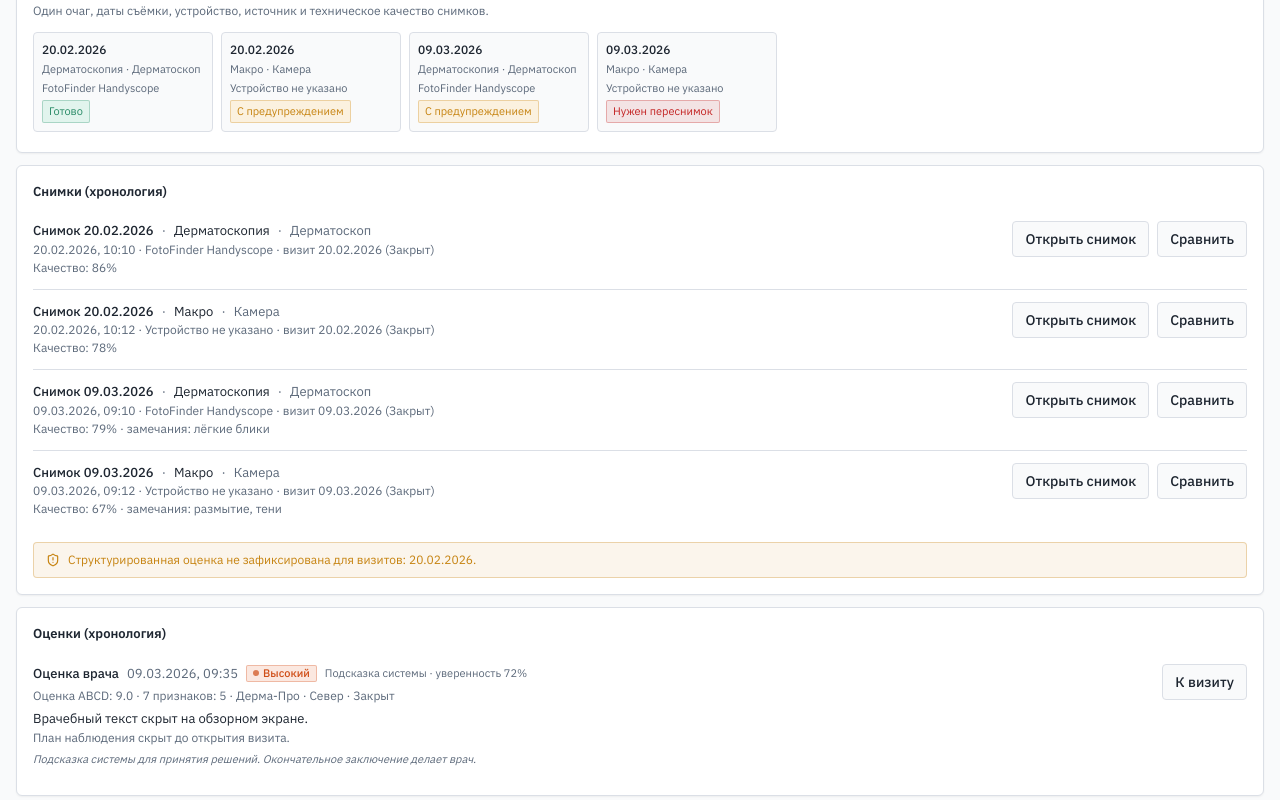
Test: LesionDetailPage › turns a non-comparable image pair into doctor actions without unsafe copy
(page scrolled)
Click the button "Сравнить" in the row of "09.03.2026, 09:10" at (1202, 400), box [1157,382,1247,418]
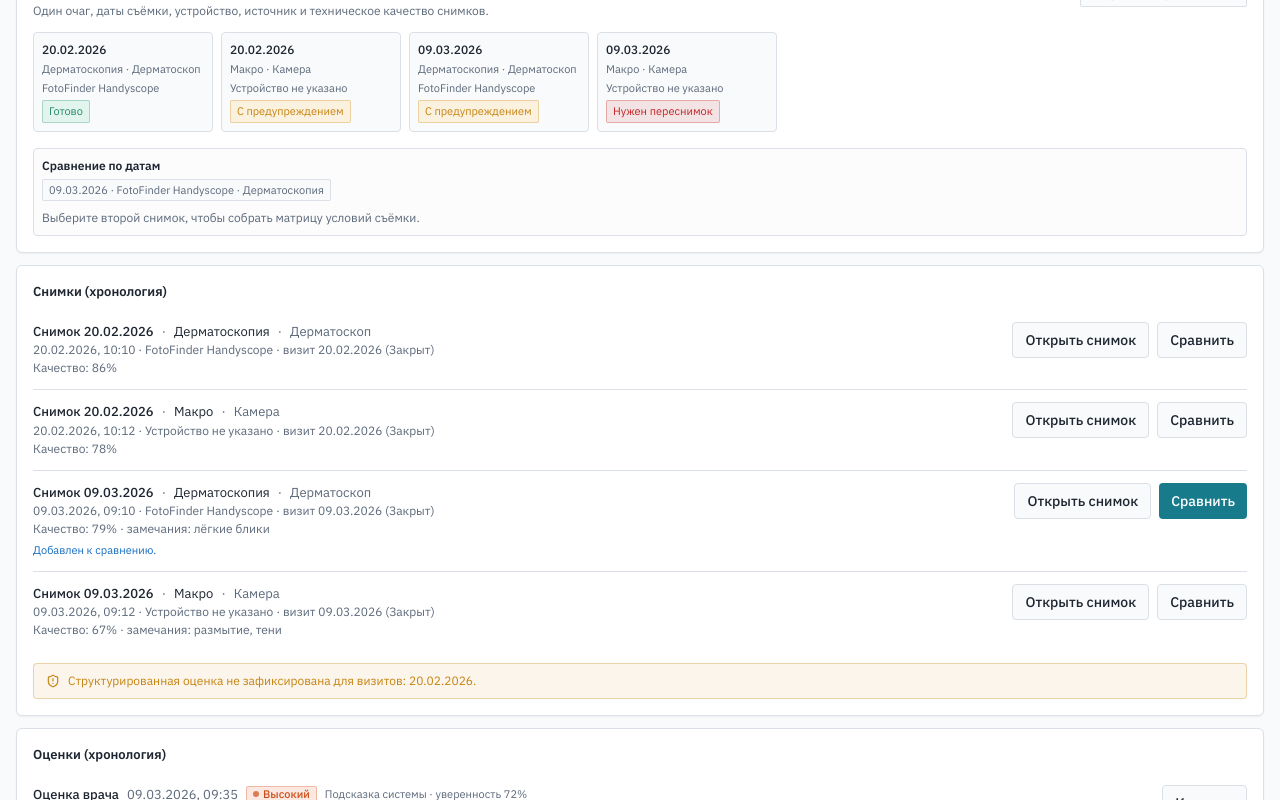
Click the button "Сравнить" in the row of "09.03.2026, 09:12" at (1202, 602), box [1157,584,1247,620]
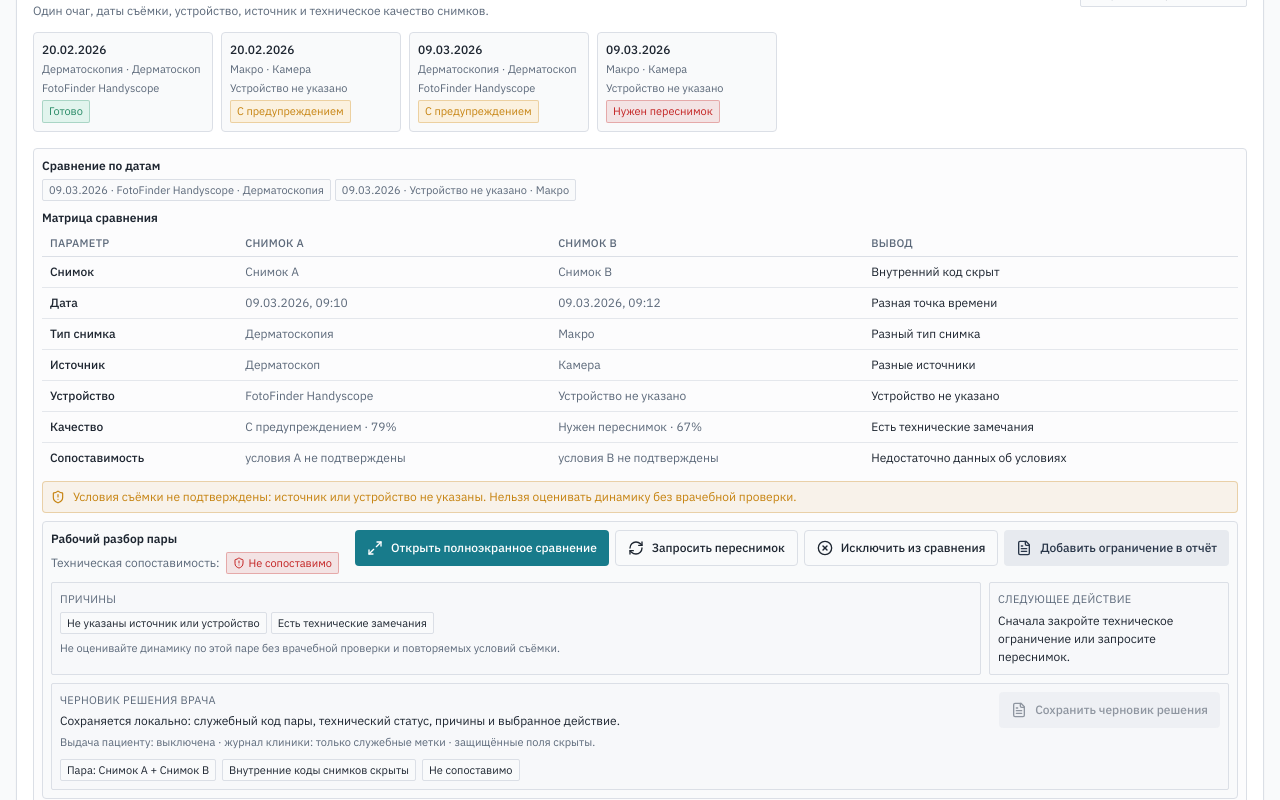
Check: the text "Техническая сопоставимость:" is shown, box [51,554,220,572]
Check: the text "Не сопоставимо" is shown, box [226,552,339,574]
Check: the text "Не указаны источник или устройство" is shown, box [60,612,267,634]
Click the button "Запросить переснимок" at (706, 548), box [615,530,798,566]
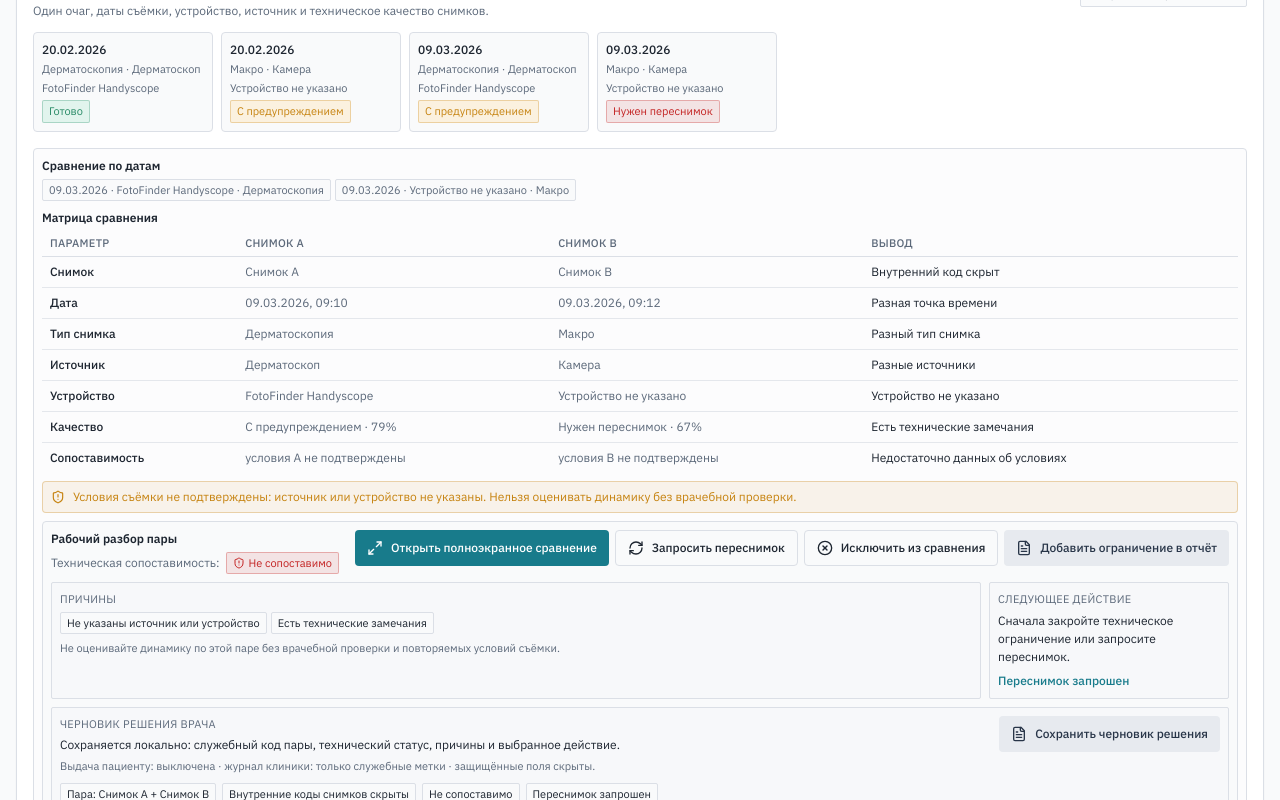
Check: the text "Переснимок запрошен" is shown, box [998,672,1129,688]
Click the button "Исключить из сравнения" at (901, 548), box [804,530,998,566]
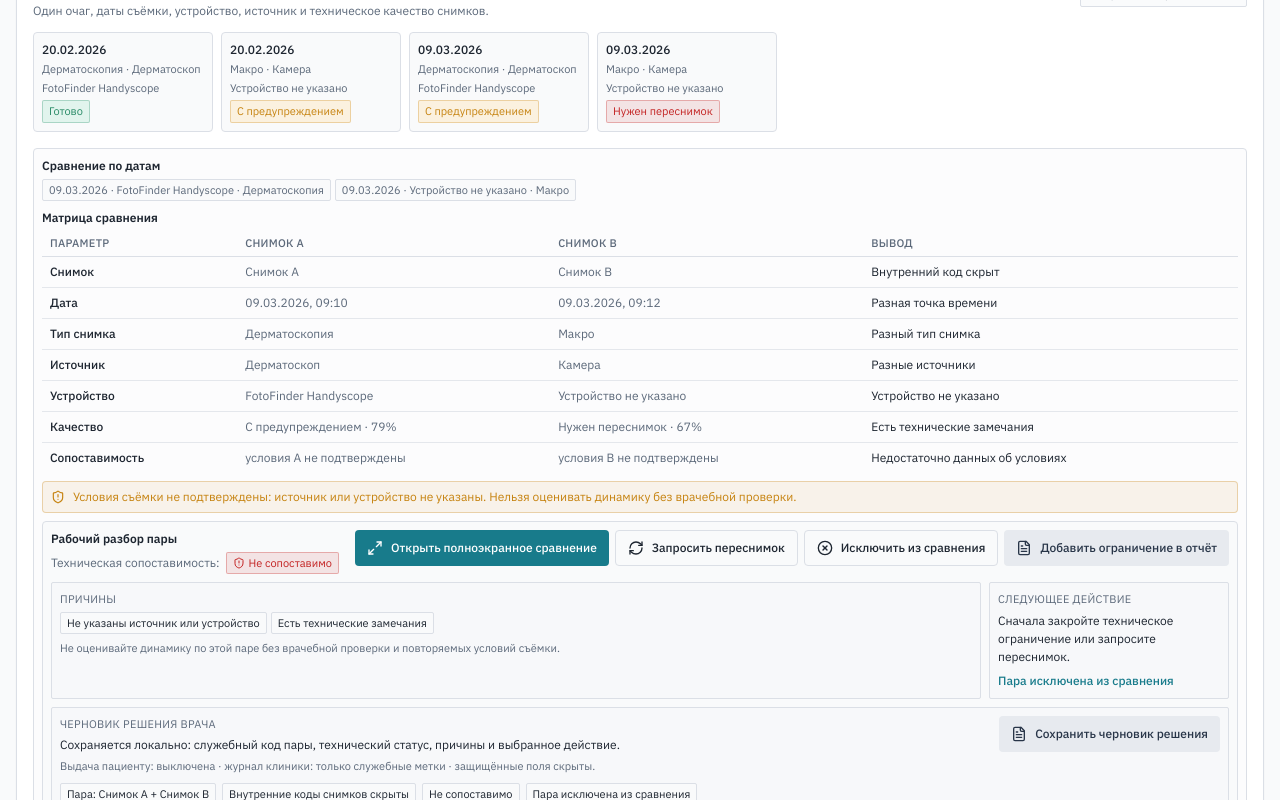
Check: the text "Пара исключена из сравнения" is shown, box [998,672,1174,688]
Click the button "Добавить ограничение в отчёт" at (1117, 548), box [1004,530,1229,566]
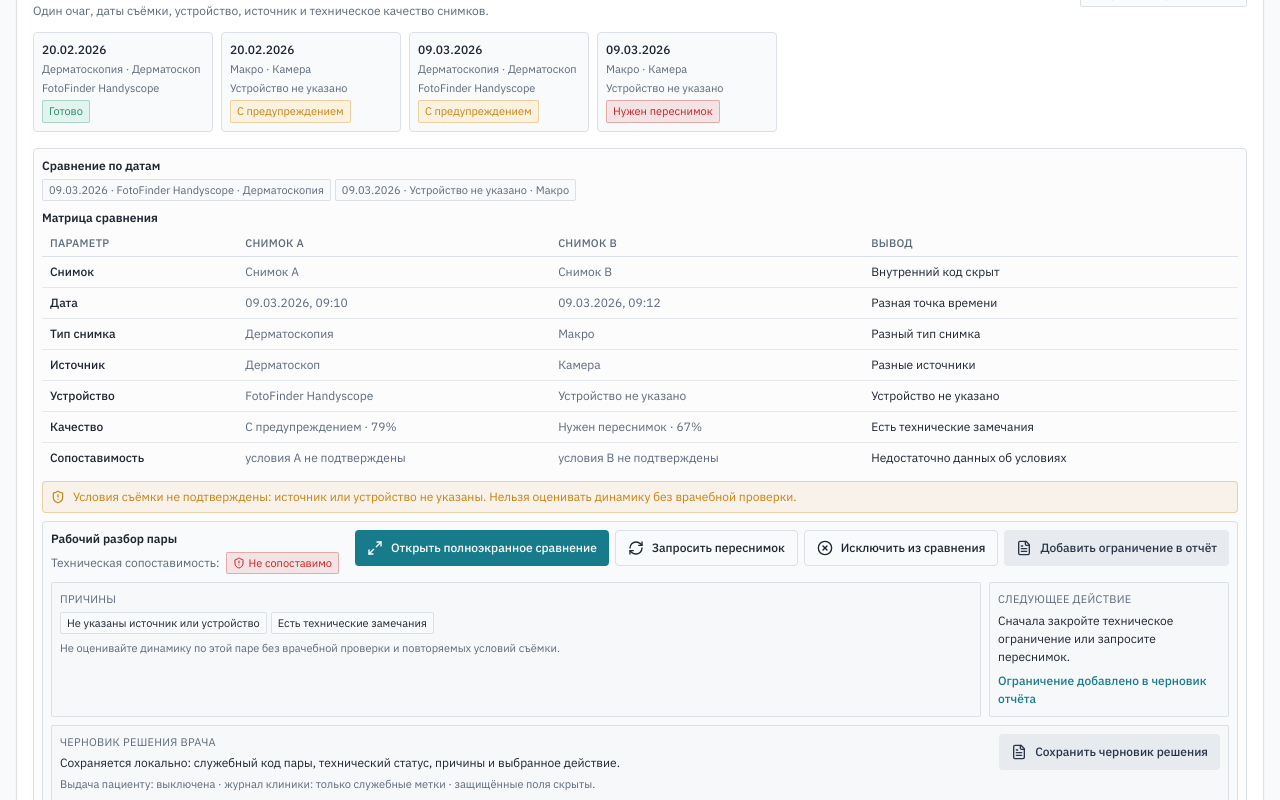
Check: the text "Ограничение добавлено в черновик отчёта" is shown, box [998,672,1220,708]
